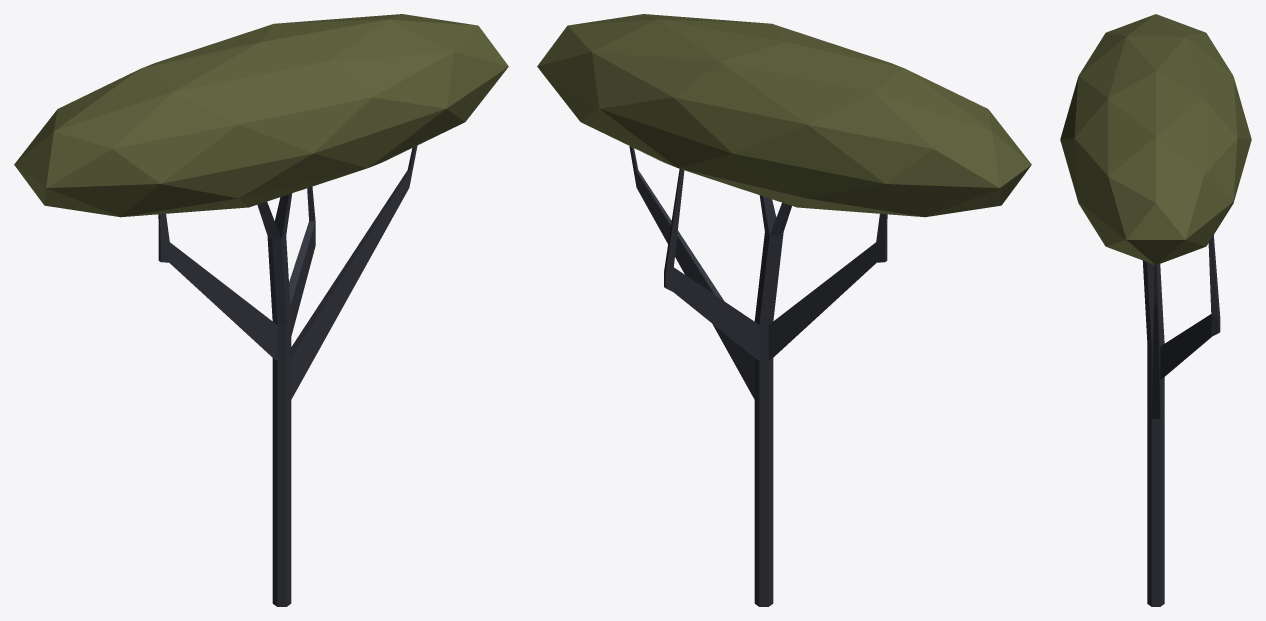
Rendered from 002_マホガニーver2.fbx.
3 renders of one model, left to right at view 1: azimuth 30°, elevation 25°; view 2: azimuth 150°, elevation 25°; view 3: azimuth 270°, elevation 25°, orthographic. The views are drawn at different scales.
Parts seen in each view (by area): view 1: ICO球, 円柱; view 2: ICO球, 円柱; view 3: ICO球, 円柱.
Boxes of the visible parts, x1,y1,x2,y2 form: ICO球: (14, 14, 508, 217); 円柱: (158, 145, 417, 606); ICO球: (537, 14, 1031, 217); 円柱: (629, 146, 887, 606); ICO球: (1060, 14, 1251, 265); 円柱: (1142, 235, 1220, 606).
Size of the model in its own units: 571 by 668 by 222.
